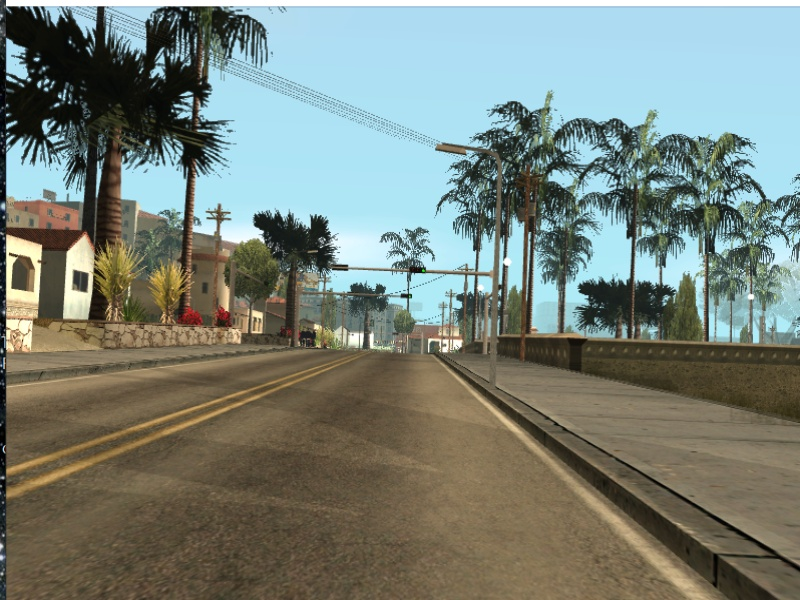pole: (490, 154, 499, 390), (291, 284, 300, 350), (482, 292, 489, 356)
